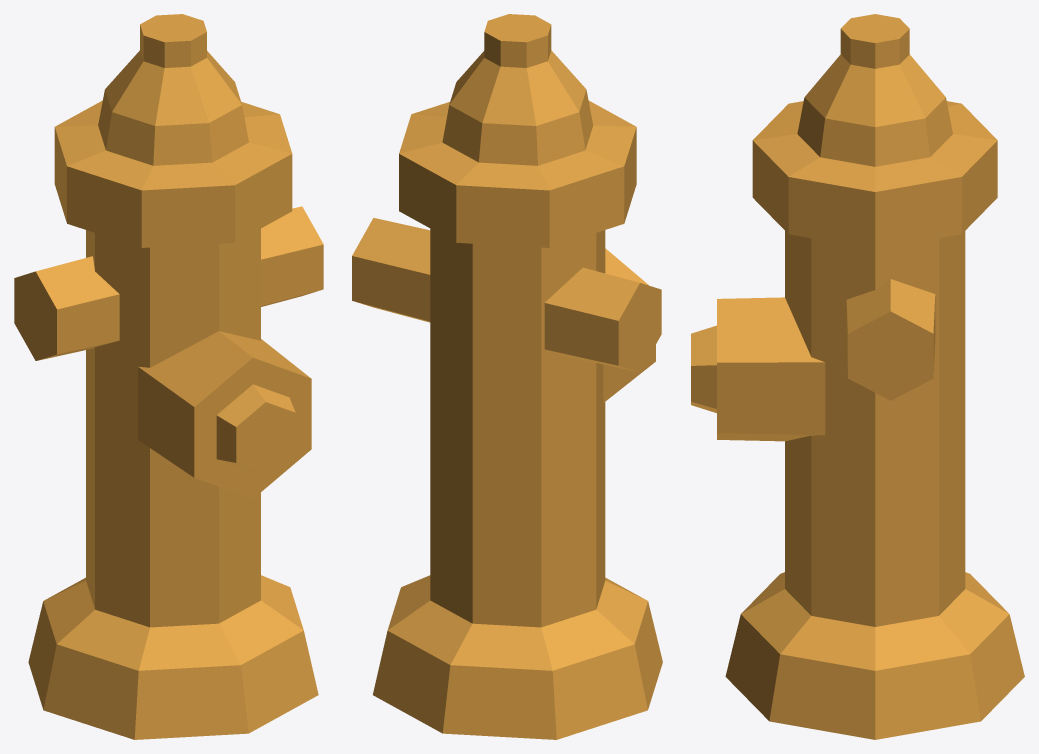
The model's file is fire-hydrant.fbx.
The picture shows the model from 3 angles, left to right: view 1: azimuth 30°, elevation 25°; view 2: azimuth 150°, elevation 25°; view 3: azimuth 270°, elevation 25°; orthographic projection.
Visible parts, largest first — view 1: fire-hydrant; view 2: fire-hydrant; view 3: fire-hydrant.
Boxes of the visible parts, x1=… form: fire-hydrant: x1=14, y1=14, x2=323, y2=739; fire-hydrant: x1=352, y1=14, x2=662, y2=739; fire-hydrant: x1=691, y1=14, x2=1024, y2=739.
Size of the model in its own units: 0.3338 by 0.778 by 0.3632.
